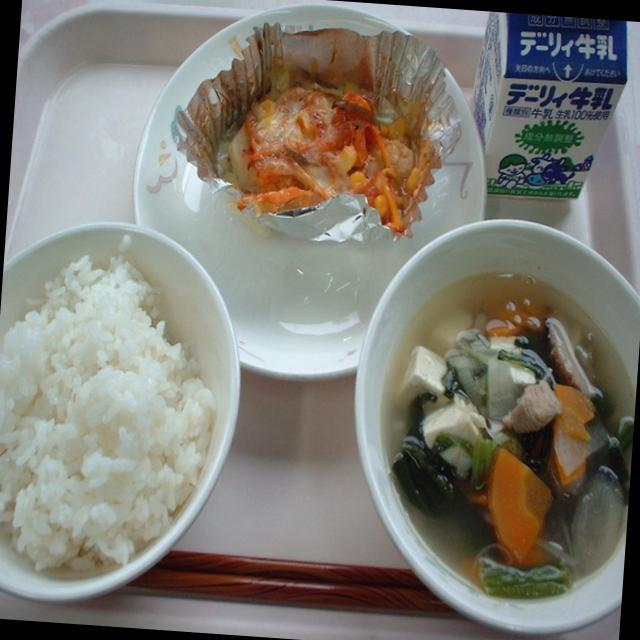Rice: (0, 218, 242, 610)
